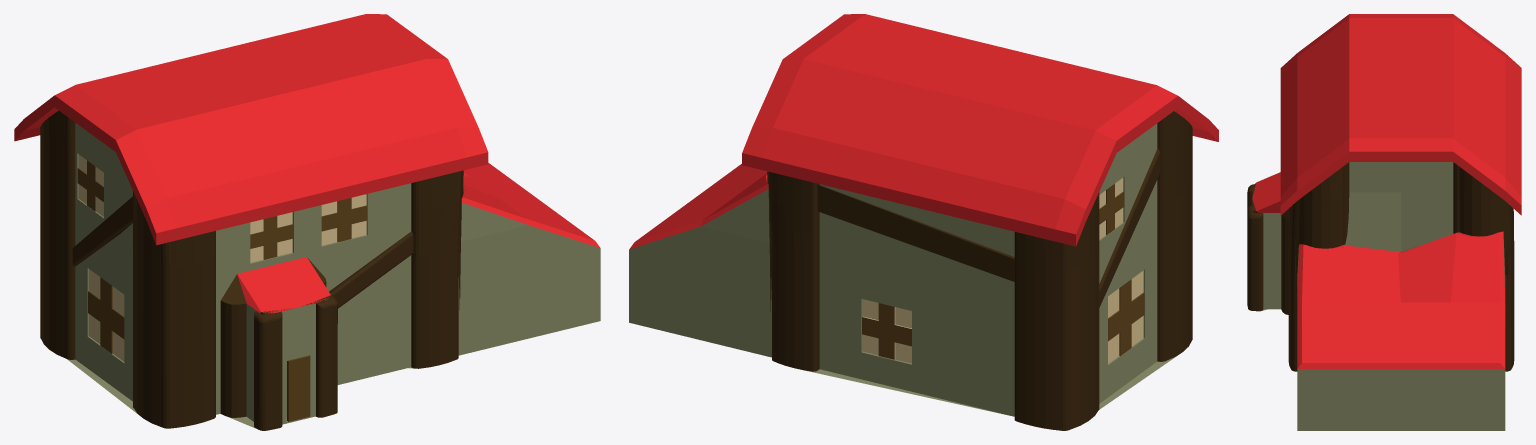
Rendered from BatimentTaverneWithLight 1.fbx.
3 renders of one model, left to right at view 1: azimuth 30°, elevation 25°; view 2: azimuth 150°, elevation 25°; view 3: azimuth 270°, elevation 25°, orthographic. The views are drawn at different scales.
Visible parts, largest first — view 1: Cube, Cube.006, Cube.001; view 2: Cube, Cube.006; view 3: Cube.
Boxes of the visible parts, x1,y1,x2,y2 form: Cube: (14, 14, 600, 430); Cube.006: (77, 154, 367, 361); Cube.001: (287, 355, 309, 421); Cube: (629, 14, 1218, 430); Cube.006: (862, 178, 1144, 363); Cube: (1247, 14, 1521, 430).
Size of the model in its own units: 1346 by 830 by 778.
